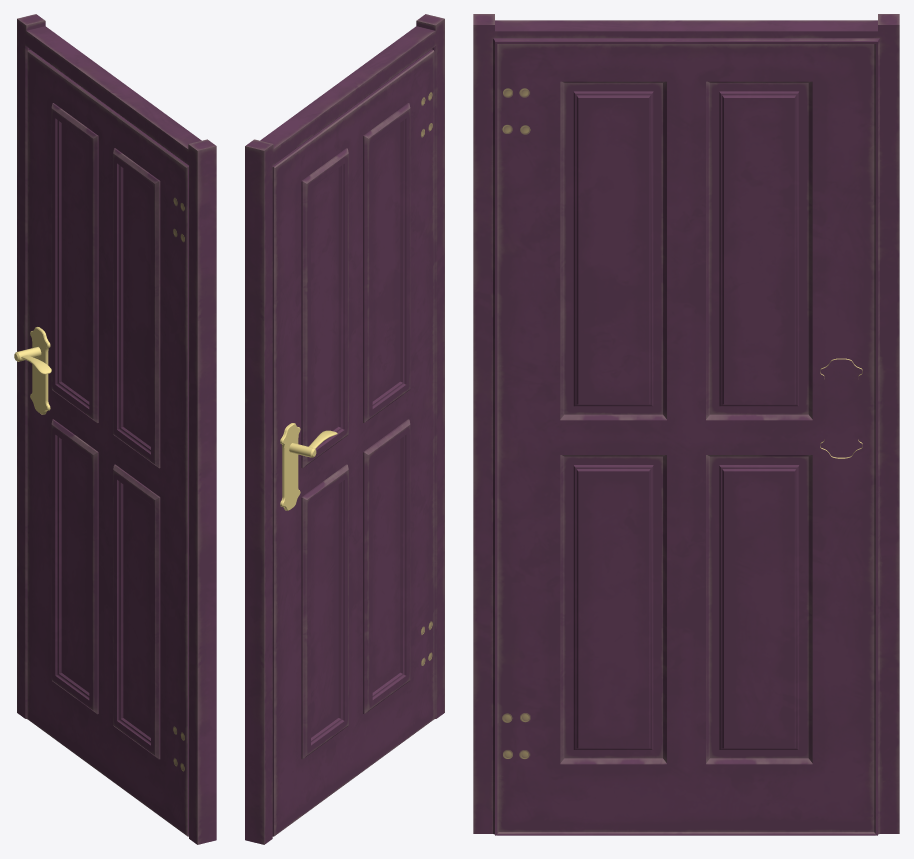
Rendered from iç-kapı.fbx.
3 views of the same model, side by side, from view 1: azimuth 30°, elevation 25°; view 2: azimuth 150°, elevation 25°; view 3: azimuth 270°, elevation 25° (orthographic). The views are drawn at different scales.
Visible parts, largest first — view 1: Door; view 2: Door; view 3: Door.
Boxes of the visible parts, box(x1,y1,x2,y2) form: Door: box(14, 14, 216, 844); Door: box(245, 14, 444, 844); Door: box(473, 14, 899, 835).
Bounding box in the file's own units: 14.01 × 207 × 97.41.
Materials: 1 (1 with a texture image).
